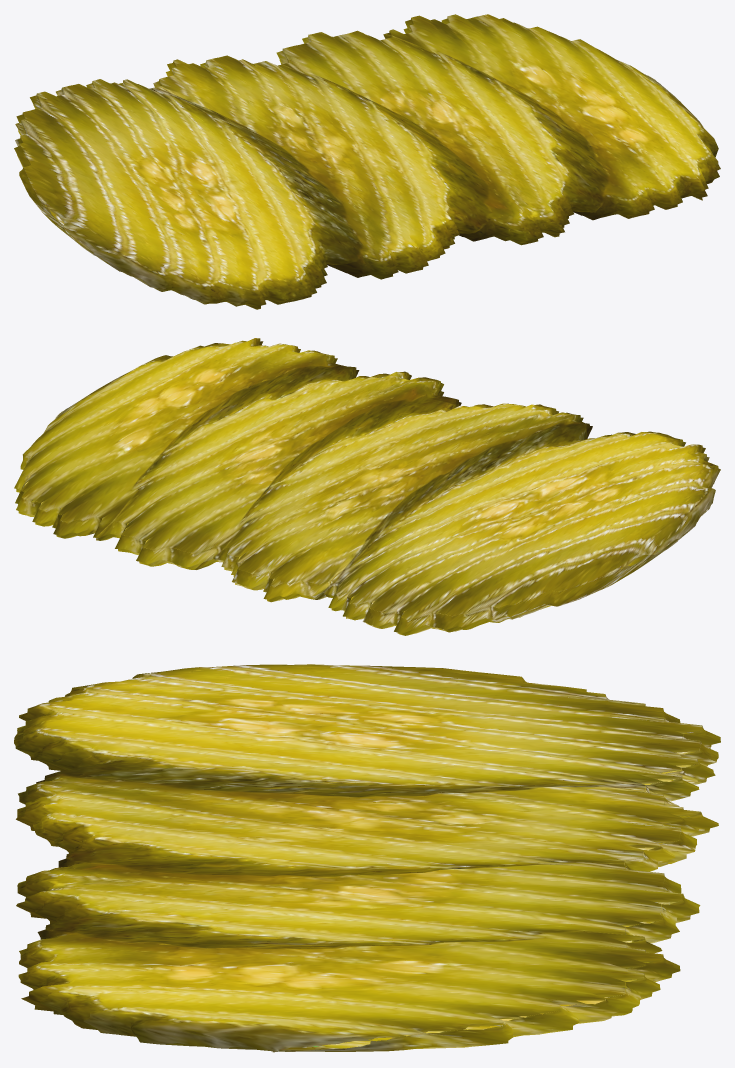
Rendered from pickles.glb.
The picture shows the model from 3 angles, top to bottom: view 1: azimuth 30°, elevation 25°; view 2: azimuth 150°, elevation 25°; view 3: azimuth 270°, elevation 25°; orthographic projection. The views are drawn at different scales.
Visible parts, largest first — view 1: pickles; view 2: pickles; view 3: pickles.
Part boxes in pixels (<box>): pickles: <box>14,14,720,309</box>; pickles: <box>14,338,720,635</box>; pickles: <box>14,664,720,1052</box>.
Size of the model in its own units: 0.89 by 0.048 by 0.7.
1 material, 1 textured.
